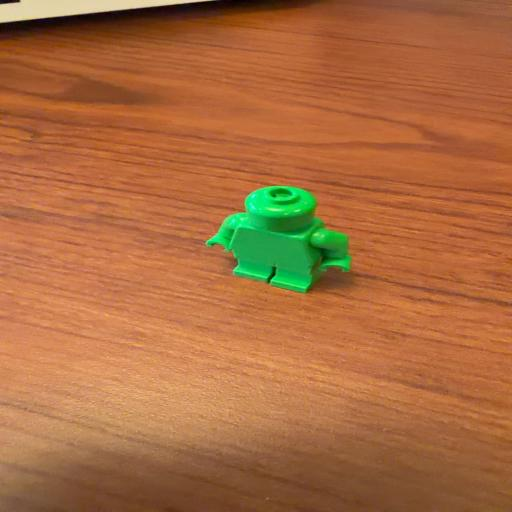UnoQ-minifig-detector: (206, 186, 351, 293)
